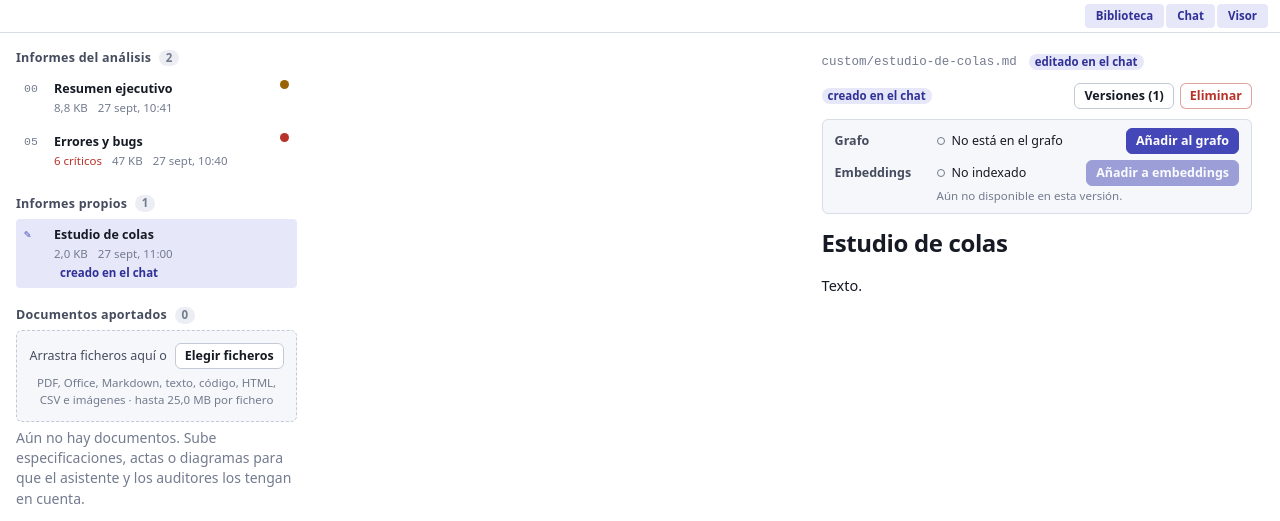
Test: AssistantTab › V2-B: un informe propio se abre por custom/<fichero> y se puede eliminar
This screenshot has width=1280, height=521.
Expected: the heading "Estudio de colas" is shown, x1=822 y1=226 x2=1008 y2=259
Expected: the text "custom/estudio-de-colas.md" is shown, x1=822 y1=53 x2=1017 y2=71
What coordinates should you click on to do the following:
click the button "Eliminar"
I would click on:
 (1216, 96)
Its box is x1=1180 y1=83 x2=1252 y2=109.
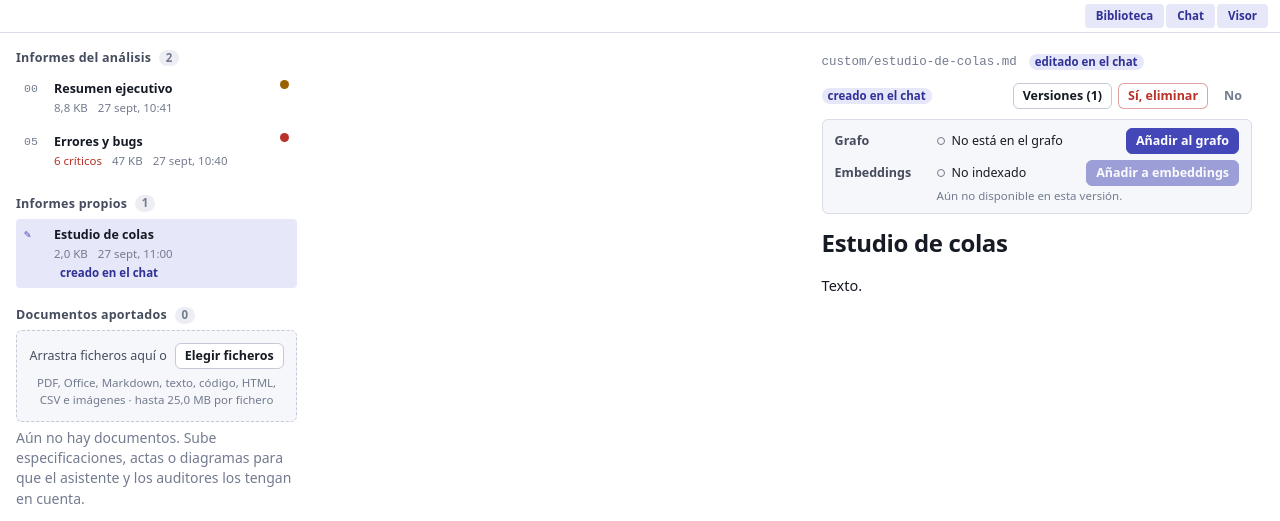
What coordinates should you click on to do the following:
click the button "Sí, eliminar"
I would click on:
 (1163, 96)
Its box is x1=1118 y1=83 x2=1208 y2=109.
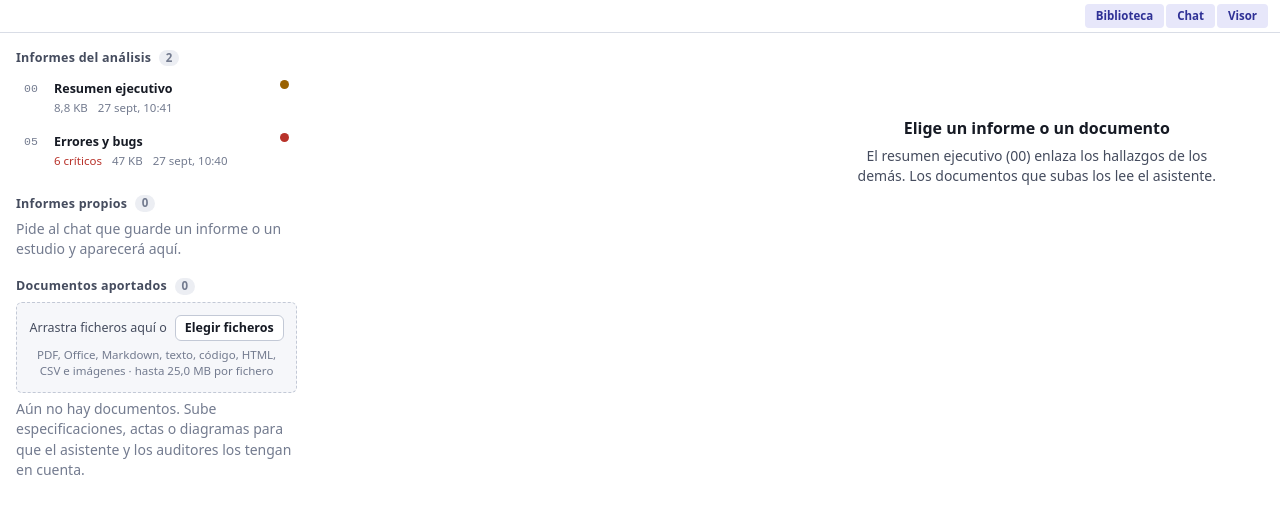
Now the heading "Elige un informe o un documento" is shown, box x1=904 y1=117 x2=1170 y2=139
